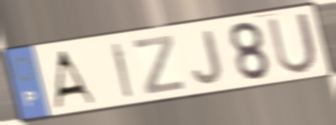8: (226, 20, 272, 83)
A: (51, 48, 98, 110)
I: (109, 40, 135, 100)
J: (190, 28, 225, 87)
U: (264, 10, 320, 76)
Z: (131, 32, 187, 97)
